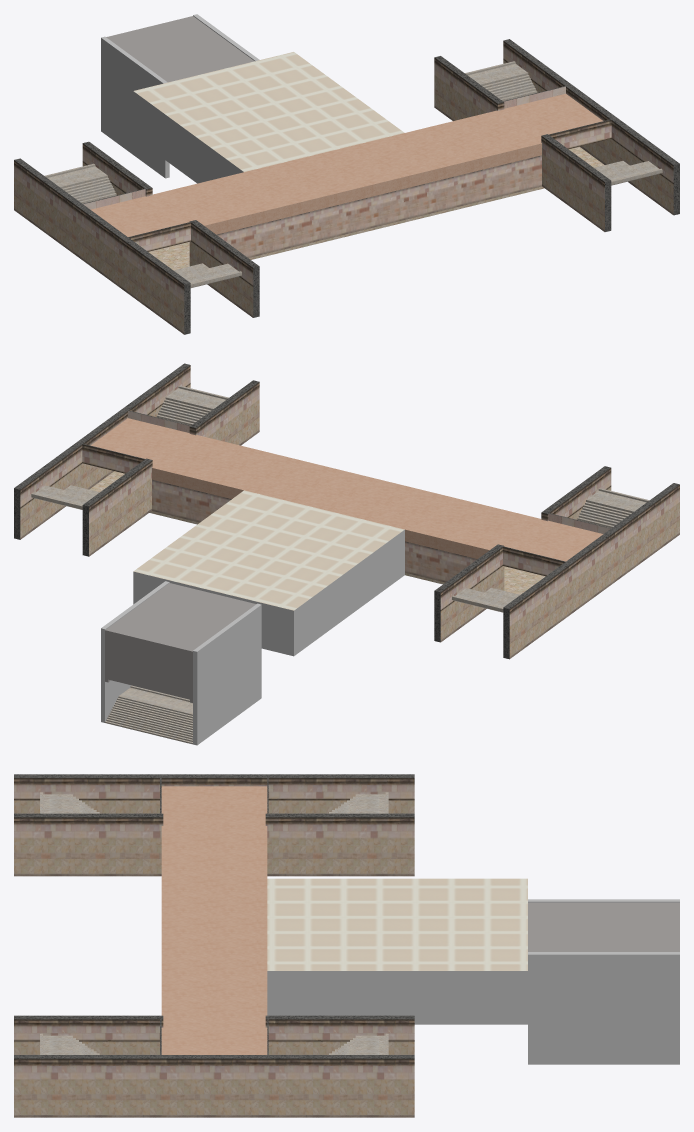
File: Subway04_CorridorInter.FBX
3 views of the same model, one above another, from view 1: azimuth 30°, elevation 25°; view 2: azimuth 150°, elevation 25°; view 3: azimuth 270°, elevation 25° (orthographic). The views are drawn at different scales.
Visible parts, largest first — view 1: Subway04_aStairWall, Subway04_Inter, Subway04_CorridorCeil0102, Subway04_CorridorWall, Subway04_aStair, Subway04StairUp, Subway04_CorridorCeil01, Subway04StairWall01, Subway04_CorridorFloor; view 2: Subway04_aStairWall, Subway04_Inter, Subway04_CorridorCeil0102, Subway04StairUp, Subway04StairWall01, Subway04_aStair, Subway04_CorridorCeil01, Subway04_CorridorWall, Subway04Stair, Subway04_CorridorFloor; view 3: Subway04_aStairWall, Subway04_Inter, Subway04_CorridorCeil0102, Subway04StairWall01, Subway04StairUp, Subway04_CorridorCeil01, Subway04_aStair.
Part boxes in pixels (x1,y1,x2,y2): Subway04_aStairWall: (14, 39, 679, 334); Subway04_Inter: (133, 52, 404, 183); Subway04_CorridorCeil0102: (152, 110, 541, 234); Subway04_CorridorWall: (217, 155, 541, 257); Subway04_aStair: (44, 61, 662, 287); Subway04StairUp: (106, 16, 254, 82); Subway04_CorridorCeil01: (91, 93, 603, 236); Subway04StairWall01: (101, 14, 259, 178); Subway04_CorridorFloor: (148, 146, 604, 270); Subway04_aStairWall: (14, 363, 679, 659); Subway04_Inter: (133, 490, 404, 656); Subway04_CorridorCeil0102: (152, 435, 541, 558); Subway04StairUp: (105, 583, 256, 702); Subway04StairWall01: (101, 581, 261, 745); Subway04_aStair: (31, 385, 649, 612); Subway04_CorridorCeil01: (91, 418, 603, 561); Subway04_CorridorWall: (152, 479, 477, 582); Subway04Stair: (105, 685, 192, 744); Subway04_CorridorFloor: (89, 471, 545, 594); Subway04_aStairWall: (14, 774, 414, 1117); Subway04_Inter: (267, 878, 527, 1024); Subway04_CorridorCeil0102: (161, 825, 267, 1023); Subway04StairWall01: (528, 899, 679, 1064); Subway04StairUp: (528, 902, 679, 951); Subway04_CorridorCeil01: (161, 786, 267, 1054); Subway04_aStair: (40, 792, 388, 1054).
Bounding box in the file's own units: 78938 × 15616 × 78107.
